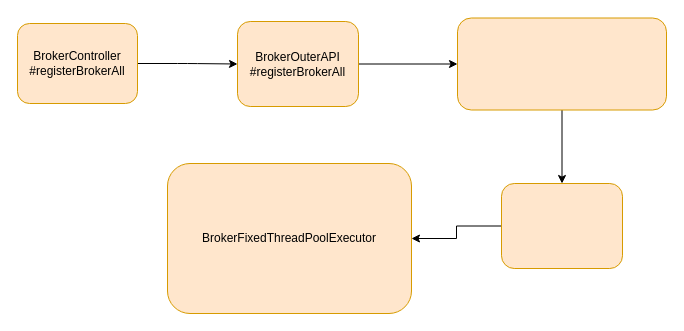
The diagram is 684 pixels wide and 331 high, and some of its shapes have lost their labels. Here are the shapes that lost their labels. From the top down, the centre of each, then its label:
At point (561, 63): "封装RegisterBrokerRequestHeader".
At point (561, 225): "封装RegisterBrokerBody 心跳包请求体".
